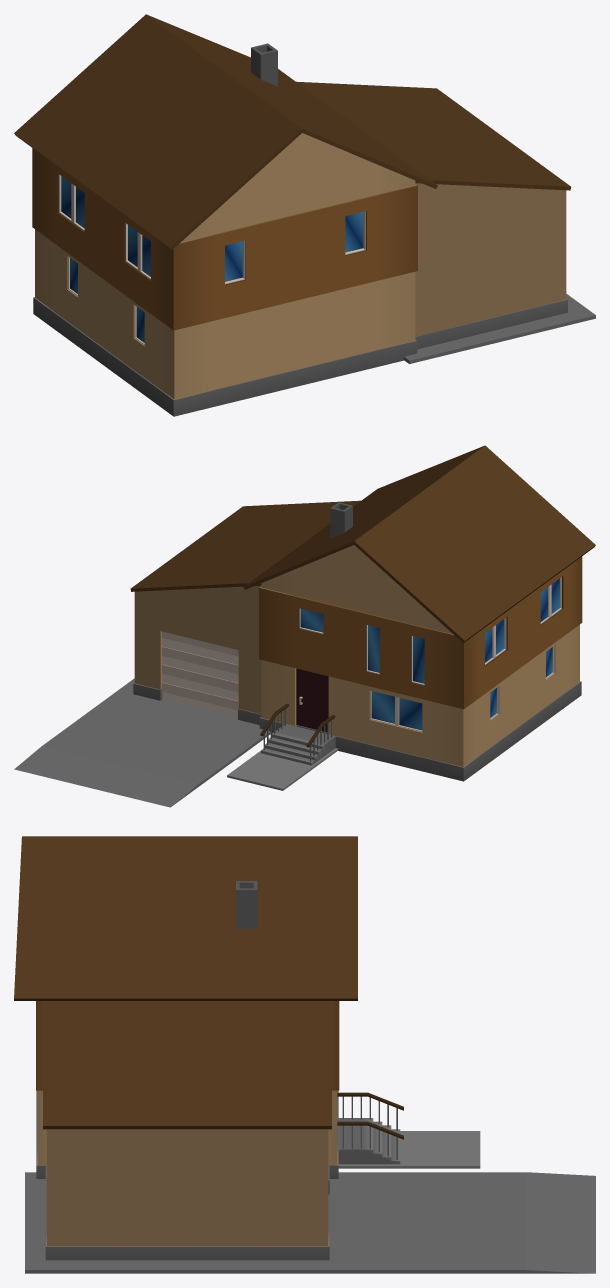
File: cottage_4.fbx
3 views of the same model, one above another, from view 1: azimuth 30°, elevation 25°; view 2: azimuth 150°, elevation 25°; view 3: azimuth 270°, elevation 25° (orthographic). The views are drawn at different scales.
Visible parts, largest first — view 1: cottage_4; view 2: cottage_4; view 3: cottage_4.
Part boxes in pixels (x1,y1,x2,y2): cottage_4: [14, 14, 595, 416]; cottage_4: [14, 445, 595, 807]; cottage_4: [14, 836, 595, 1273].
Size of the model in its own units: 18.31 by 20.1 by 10.79.
